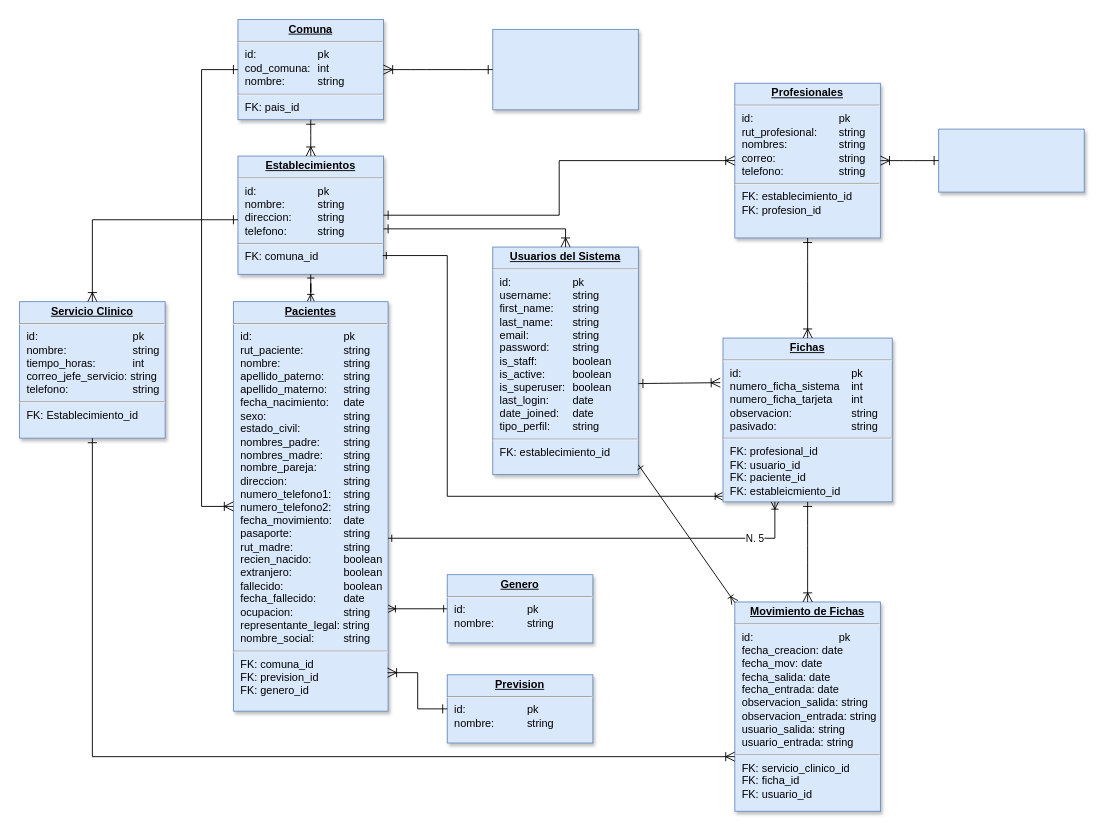
The diagram is 1106 pixels wide and 834 high, and some of its shapes have lost their labels. The shapes that lost their labels are listed below. From the top down, each one's centre as x and y in pixels, then its label:
At (566,70): "Pais id: pk cod_pais: int nombre: string".
At (1012,161): "Profesion id: pk nombre: string".
